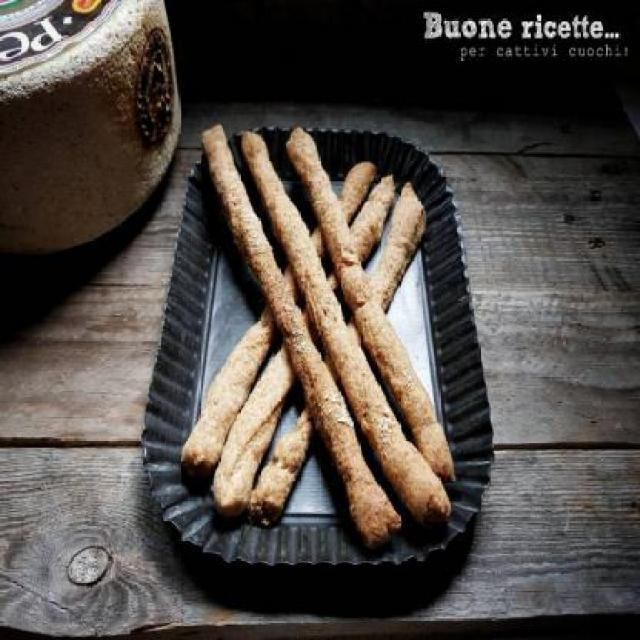Grissini: (178, 123, 458, 529)
